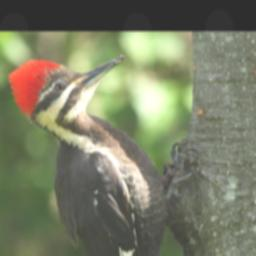Woodpecker: (9, 54, 197, 256)
